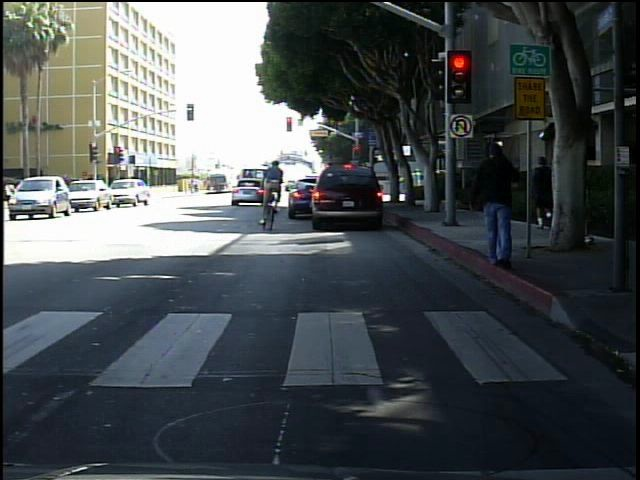person: (472, 134, 520, 273), (240, 148, 303, 223), (551, 137, 582, 244), (533, 148, 556, 235)
